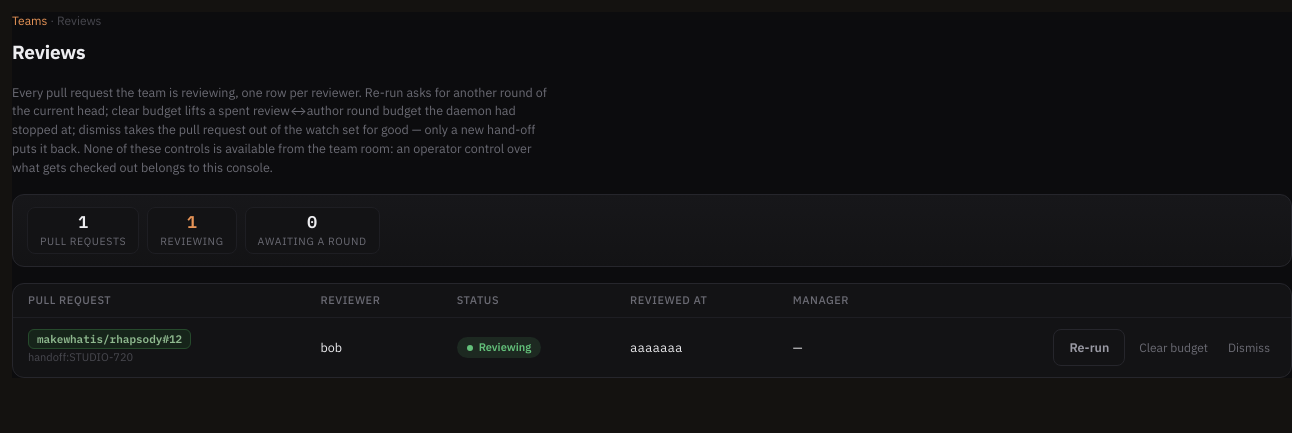
Test: the Reviews surface › says a re-run was a no-op rather than answering it with silence
The image size is (1292, 433).
Click the button with aria-label "Re-run the review of makewhatis/rhapsody#12": coordinates (1089, 347) [1053,329,1125,366]
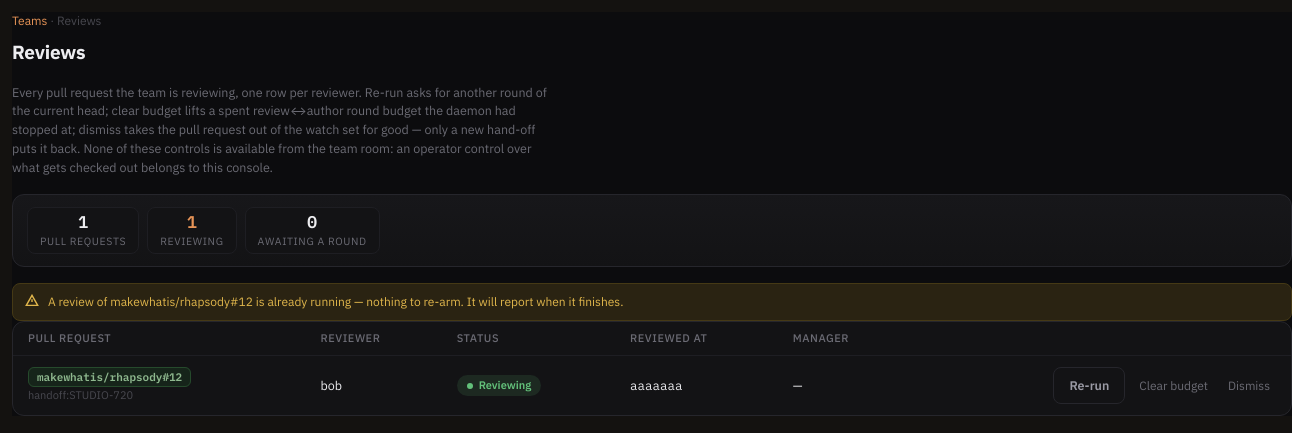
Check: the message shows "already running", box [48,294,623,309]
Check: the message shows "nothing to re-arm", box [48,294,623,309]
